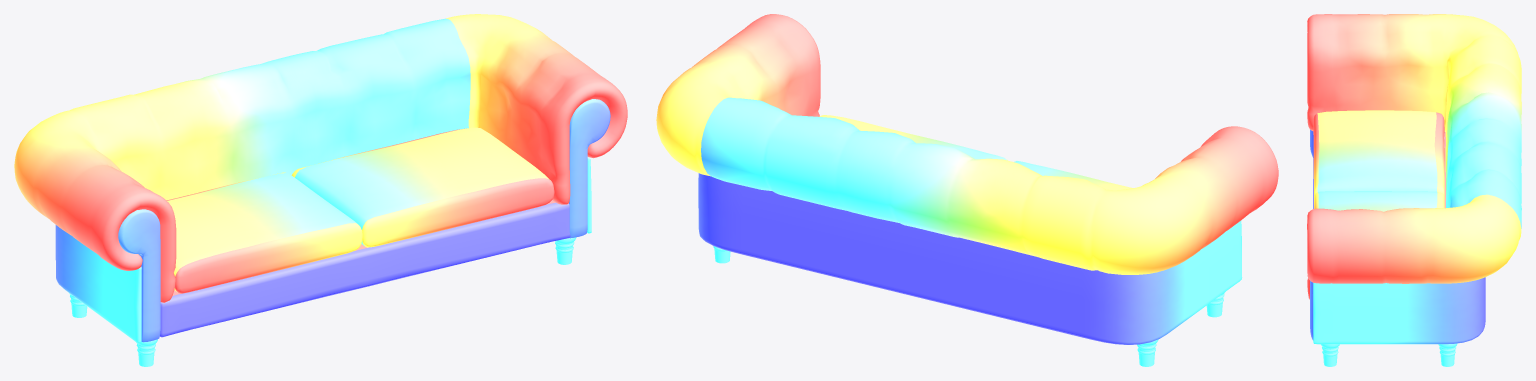
The model's file is SM_Sofa.fbx.
3 renders of one model, left to right at view 1: azimuth 30°, elevation 25°; view 2: azimuth 150°, elevation 25°; view 3: azimuth 270°, elevation 25°, orthographic. The views are drawn at different scales.
Parts seen in each view (by area): view 1: SM_Sofa_LOD0; view 2: SM_Sofa_LOD0; view 3: SM_Sofa_LOD0.
Part boxes in pixels (x1=…): SM_Sofa_LOD0: x1=14, y1=14, x2=627, y2=366; SM_Sofa_LOD0: x1=656, y1=14, x2=1278, y2=366; SM_Sofa_LOD0: x1=1307, y1=14, x2=1521, y2=366.
Size of the model in its own units: 244 by 98.11 by 80.81.
